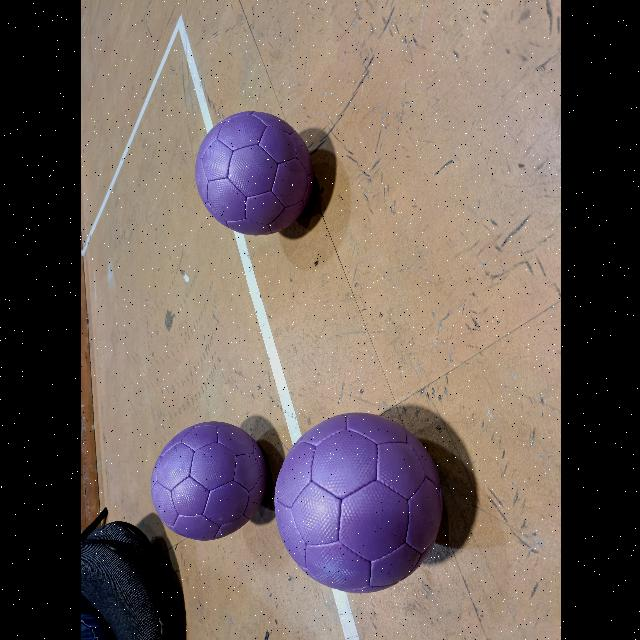P: (273, 413, 442, 592), (194, 111, 312, 235), (149, 422, 265, 540)
